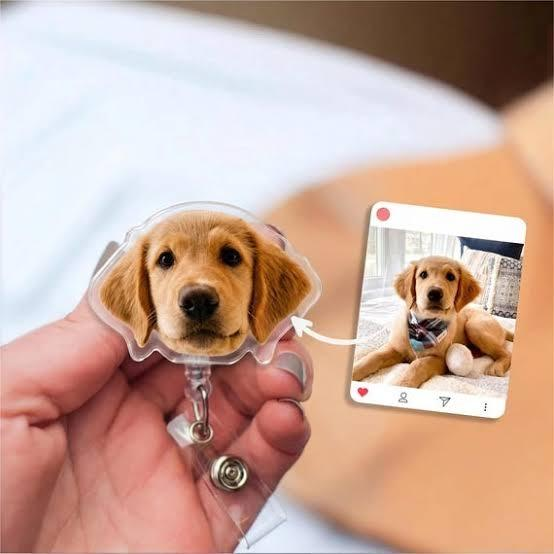puppy-dog: (98, 211, 311, 358), (352, 255, 514, 388)
